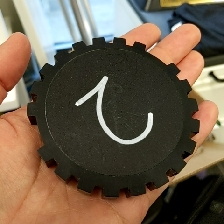gear: (25, 35, 202, 202)
missing: (131, 39, 182, 77), (26, 101, 55, 167)
